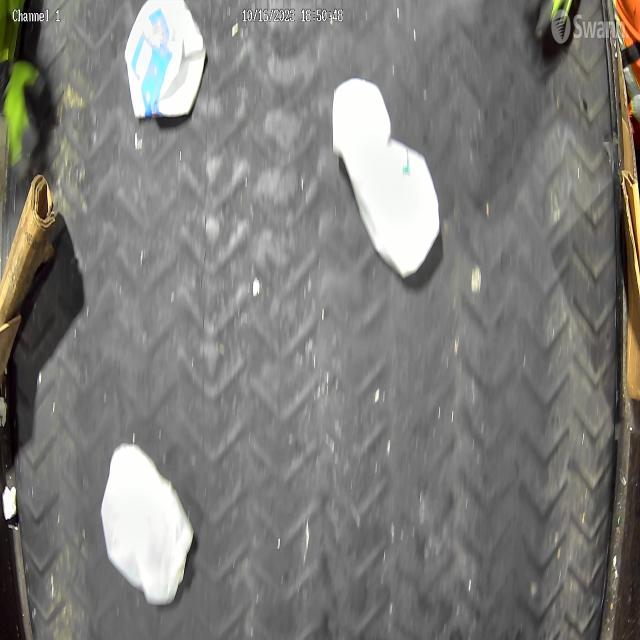milk_jug: (332, 78, 440, 276), (101, 444, 195, 606), (125, 0, 206, 118)
